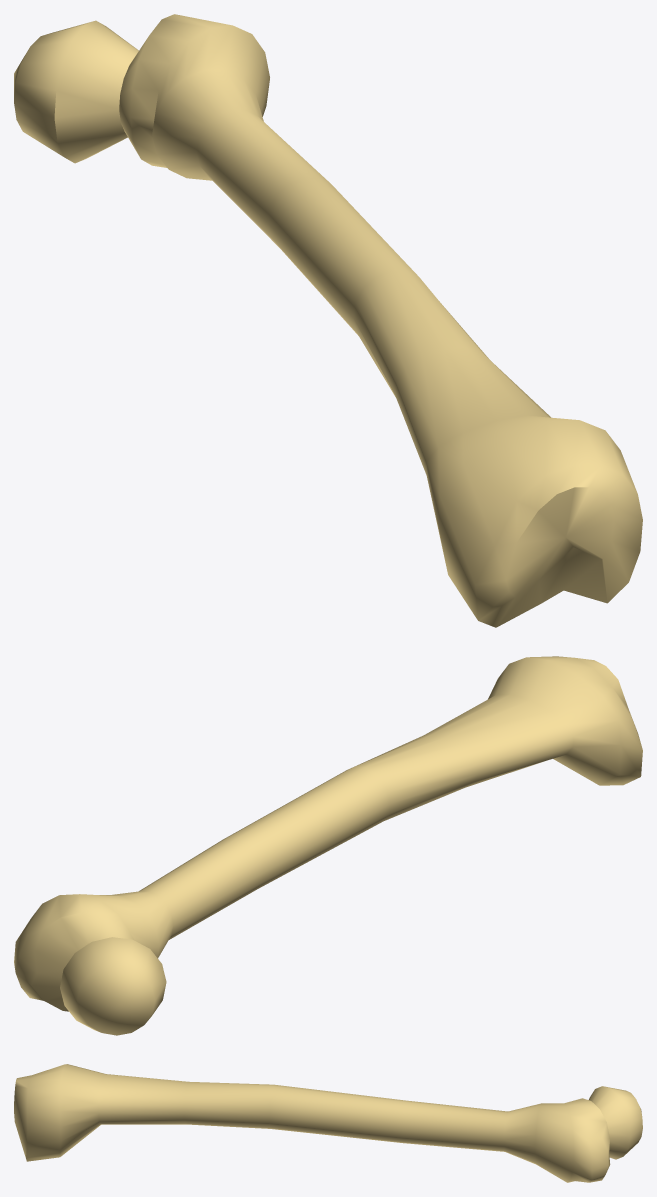
File: Skeleton_Parts_02.glb
3 views of the same model, one above another, from view 1: azimuth 30°, elevation 25°; view 2: azimuth 150°, elevation 25°; view 3: azimuth 270°, elevation 25° (orthographic). The views are drawn at different scales.
Parts seen in each view (by area): view 1: Skeleton_Parts_02; view 2: Skeleton_Parts_02; view 3: Skeleton_Parts_02.
Part boxes in pixels (left/top/right/bottom): Skeleton_Parts_02: left=14, top=14, right=642, bottom=627; Skeleton_Parts_02: left=14, top=656, right=642, bottom=1035; Skeleton_Parts_02: left=14, top=1064, right=642, bottom=1182.
Size of the model in its own units: 0.1784 by 0.092 by 0.5886.
Materials: 1 (1 with a texture image).
